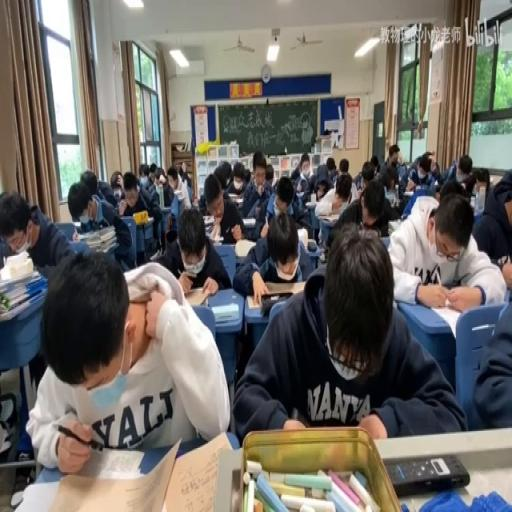calculator: (158, 430, 232, 510), (246, 280, 304, 309), (12, 479, 58, 511), (426, 303, 468, 337), (182, 283, 214, 307), (78, 223, 114, 242), (210, 302, 238, 322), (234, 236, 256, 256), (93, 239, 117, 253), (318, 212, 341, 225), (295, 224, 307, 248), (134, 213, 155, 226), (202, 215, 214, 236), (383, 186, 396, 204), (386, 219, 402, 233), (150, 246, 162, 259), (228, 195, 243, 205), (241, 216, 256, 225), (209, 235, 223, 243), (159, 203, 171, 212), (304, 198, 317, 206), (295, 184, 305, 194), (403, 189, 414, 196)
paper: (234, 225, 459, 442), (2, 188, 75, 432), (152, 202, 230, 294), (465, 283, 512, 430), (69, 172, 137, 269), (472, 166, 512, 266), (334, 176, 394, 238), (238, 154, 274, 226), (280, 170, 315, 238), (196, 162, 226, 213), (405, 151, 439, 193), (147, 166, 174, 209), (224, 158, 247, 195), (438, 178, 464, 199), (378, 162, 396, 192), (459, 170, 476, 196), (386, 144, 402, 169), (163, 214, 176, 244), (82, 170, 98, 194), (176, 162, 190, 188), (326, 155, 338, 183), (352, 170, 366, 190), (346, 182, 358, 205), (110, 171, 124, 189), (183, 182, 193, 205), (139, 163, 149, 185), (299, 154, 309, 176), (172, 184, 186, 199), (478, 179, 488, 198), (396, 162, 407, 179), (338, 156, 348, 174), (370, 154, 379, 172), (264, 165, 274, 181), (430, 161, 440, 175), (30, 202, 38, 219), (242, 168, 251, 183), (434, 188, 440, 200)
person: (383, 452, 469, 494), (306, 239, 316, 252)
